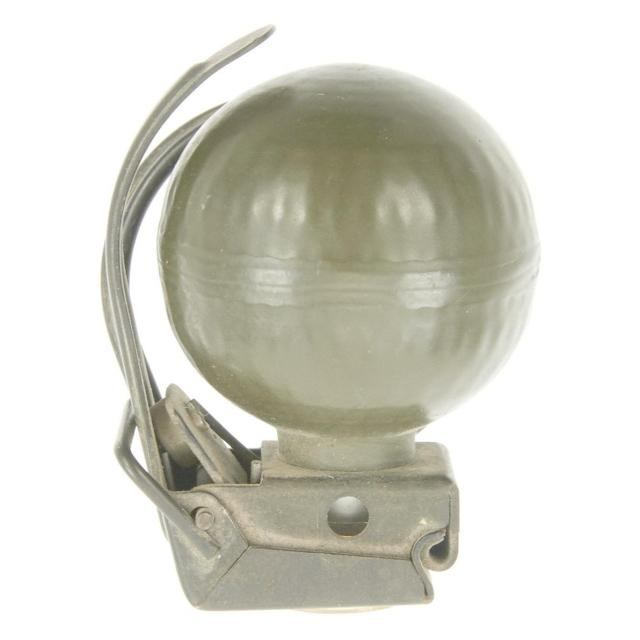grenade: (101, 26, 543, 615)
